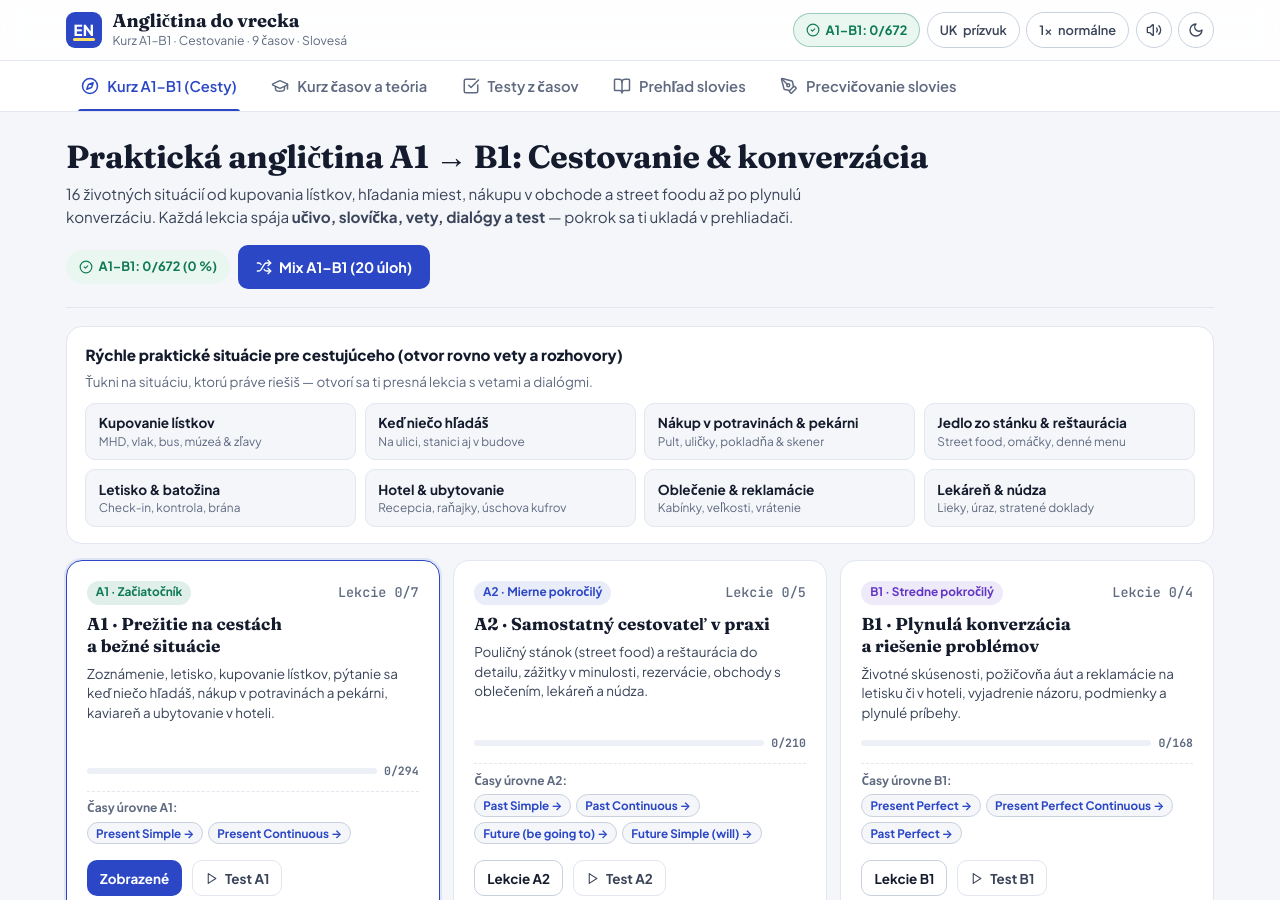
Test: App UI Integration › filters verbs in Slovak and opens detailed Slovak explanation modal
Click the tab "Prehľad slovies" at (679, 86), box [598,61,761,111]
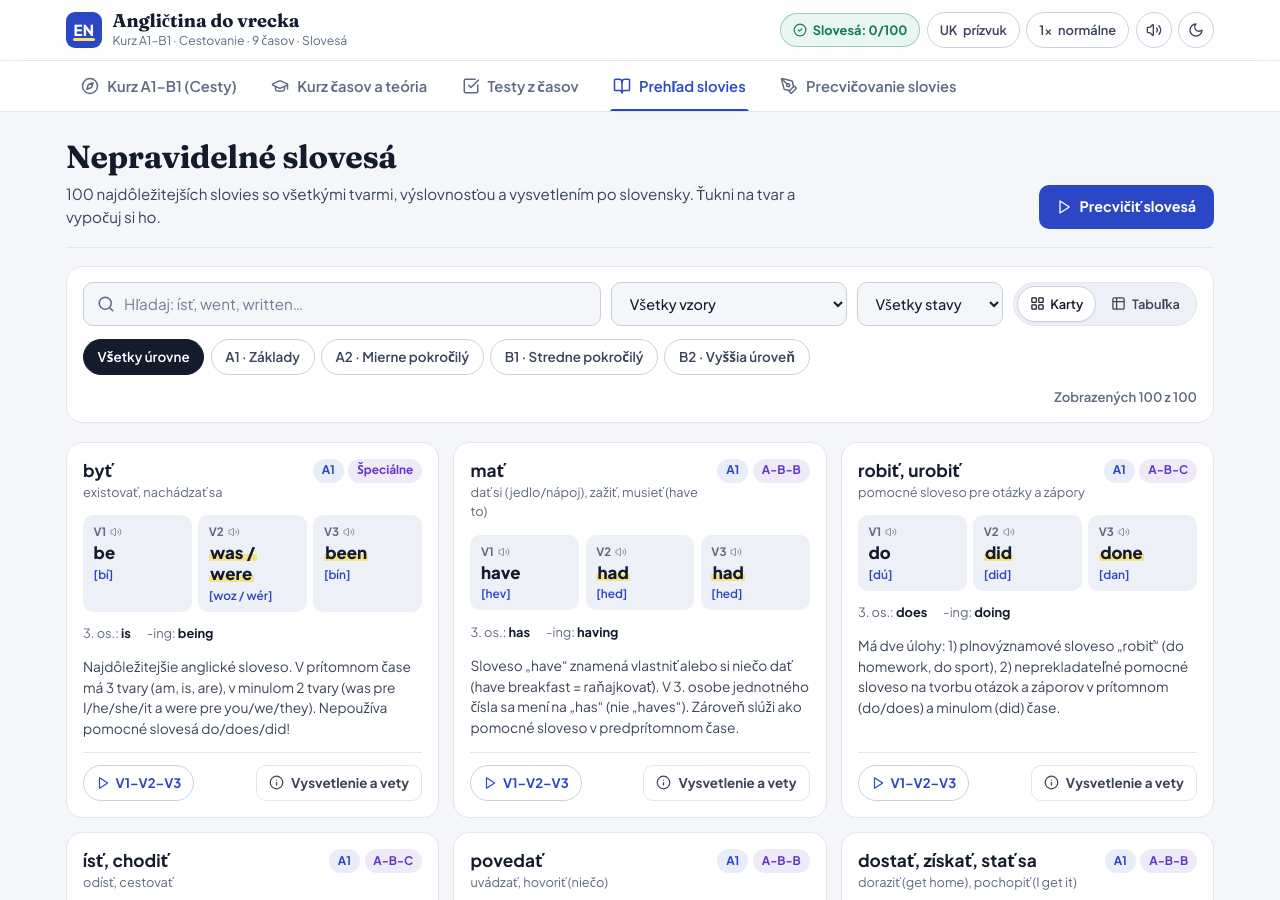
Type "write" into the search field named "Hľadať sloveso" at (342, 304), box [83,282,602,326]
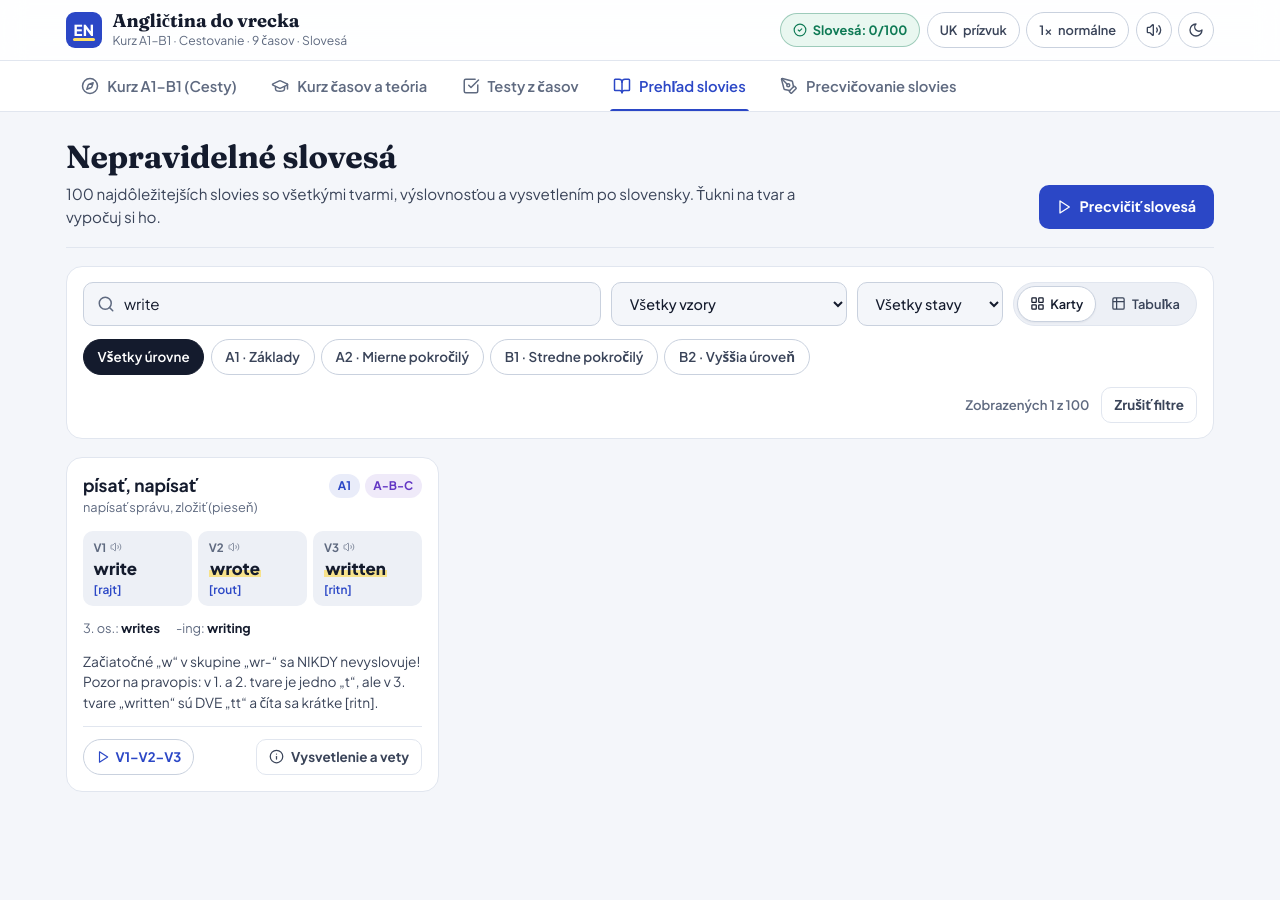
Expected: the text "write" is shown, [94,558,137,579]
Expected: the text "wrote" is shown, [209,558,261,579]
Expected: the text "written" is shown, [324,558,387,579]
Click the button "Vysvetlenie a vety" at (339, 757), box [256,739,422,775]
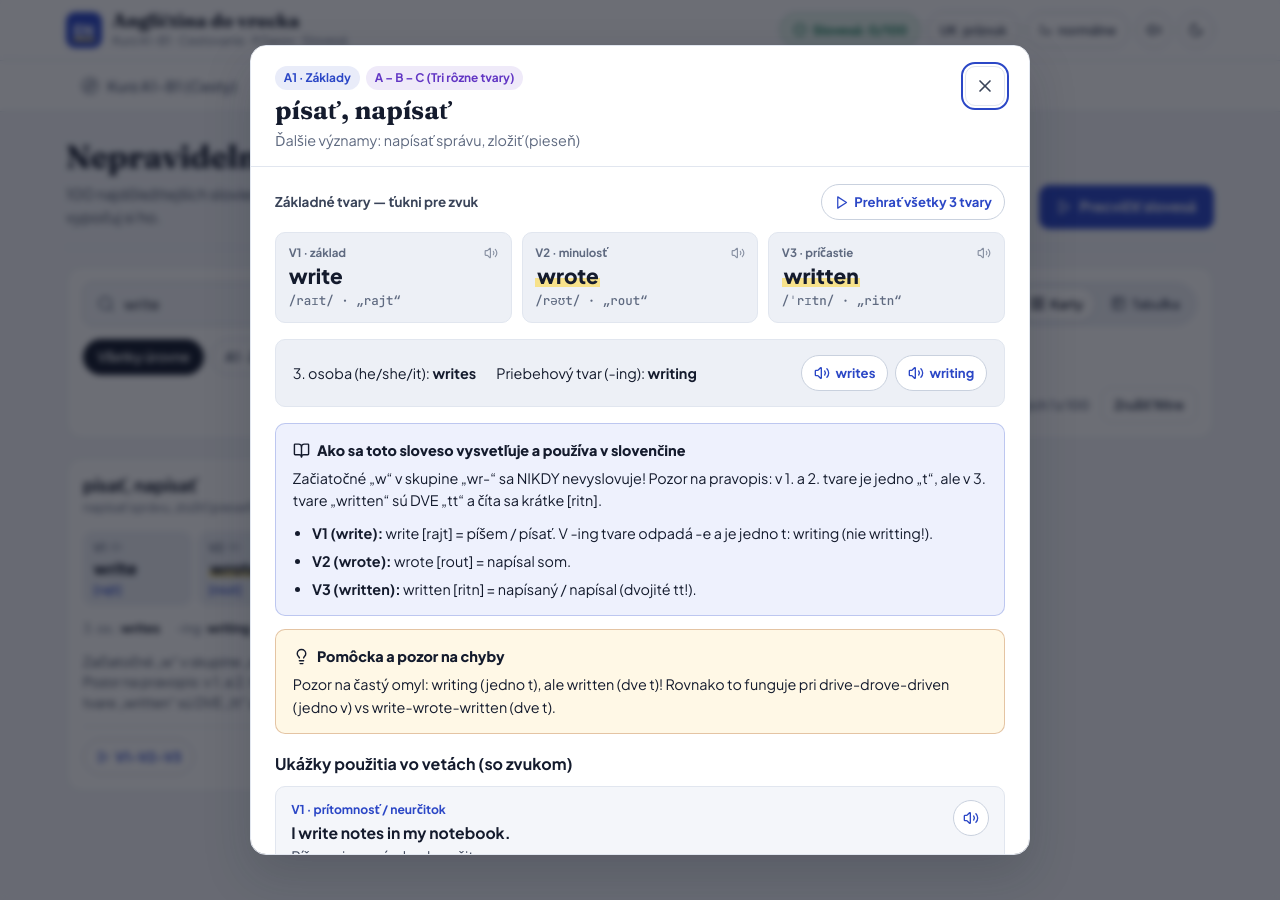
Expected: the text "Ako sa toto sloveso vysvetľuje a používa v slovenčine" is shown, [317,439,686,461]
Expected: the heading "Ukážky použitia vo vetách (so zvukom)" is shown, [275,753,572,774]
